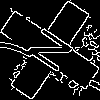N: (25, 25, 84, 81)
